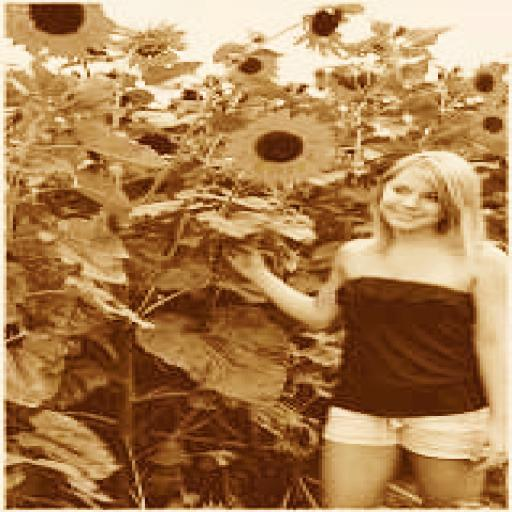sunflower: (222, 111, 332, 181)
